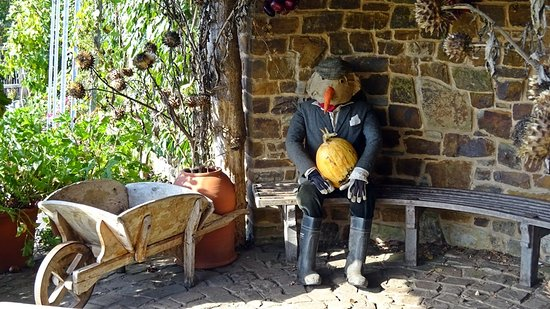person-like: (280, 54, 392, 291)
